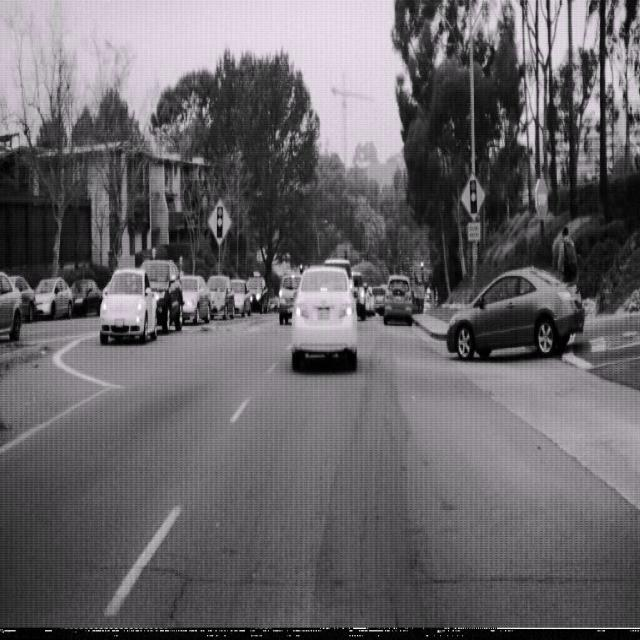stop: (534, 176, 549, 222)
